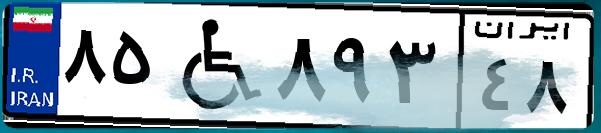3: (385, 28, 445, 110)
4: (475, 38, 525, 113)
5: (110, 28, 158, 98)
8: (270, 28, 330, 110), (57, 26, 110, 100), (525, 38, 570, 115)
9: (330, 28, 385, 110)
ژ (معلولین و جانبازان): (158, 12, 270, 120)
